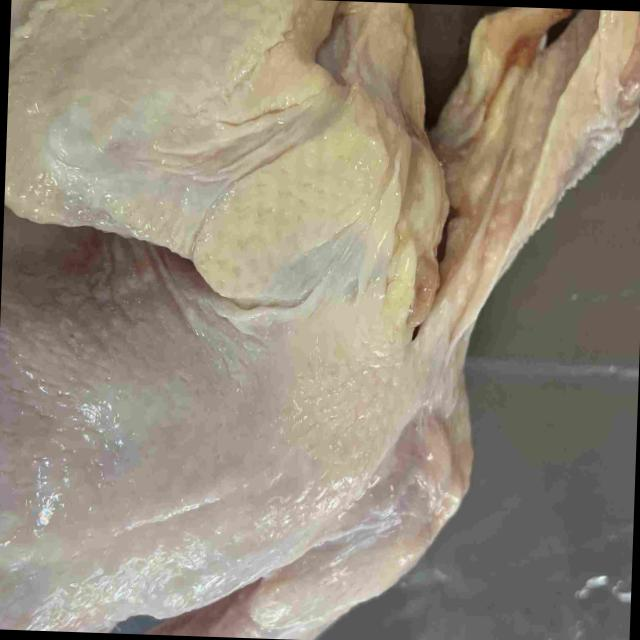back: (0, 297, 324, 632)
neck: (419, 7, 640, 377)
wing: (4, 0, 399, 317), (138, 380, 473, 640)
